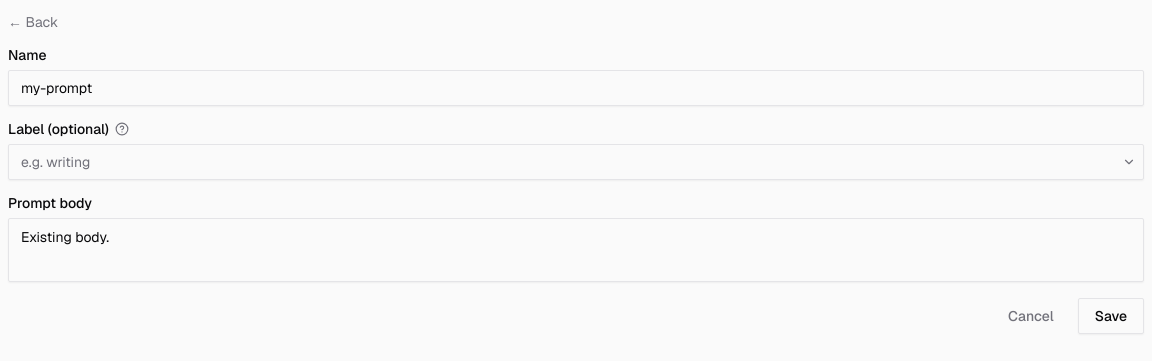
Test: PromptForm › should dismiss confirmation and return to editing when Keep editing is clicked
Type " extra" into the text box labelled "Prompt body" at {"x": 576, "y": 250}, box [8,218,1144,282]
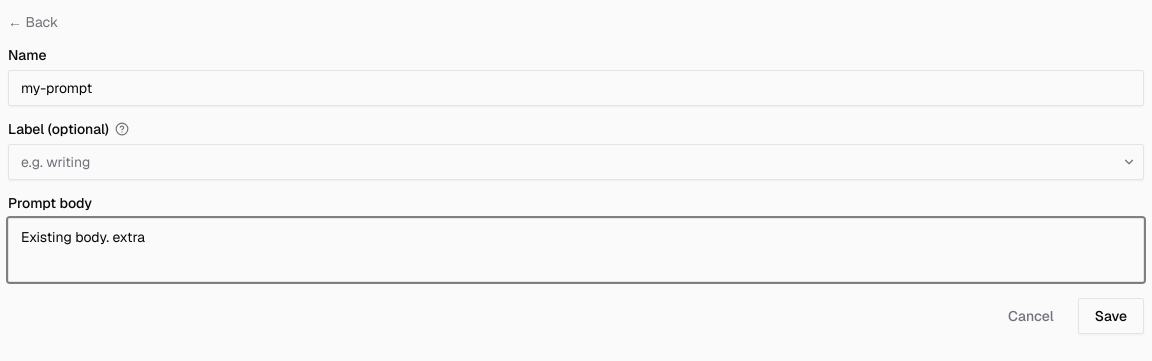
Click the button "Cancel" at {"x": 1031, "y": 316}, box [992,298,1070,334]
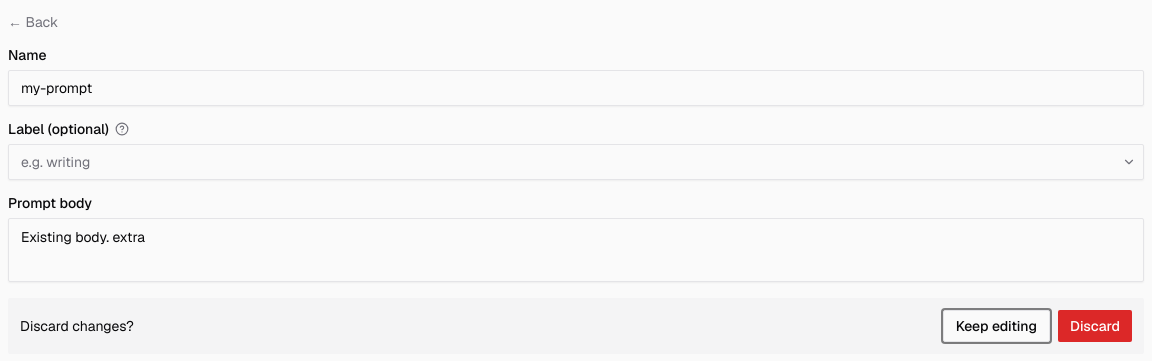
Click the button "Keep editing" at {"x": 996, "y": 326}, box [943,310,1050,342]
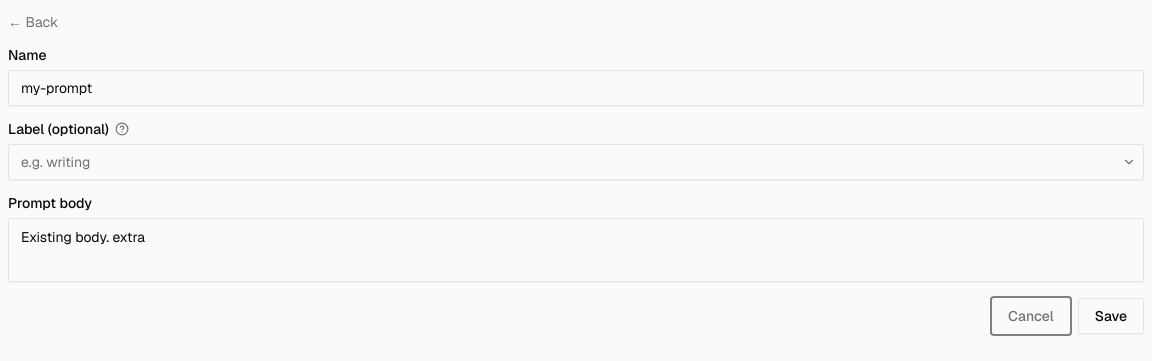
Check: the text "Discard changes" is gone
Check: the button "Save" is shown, box [1078,298,1144,334]
